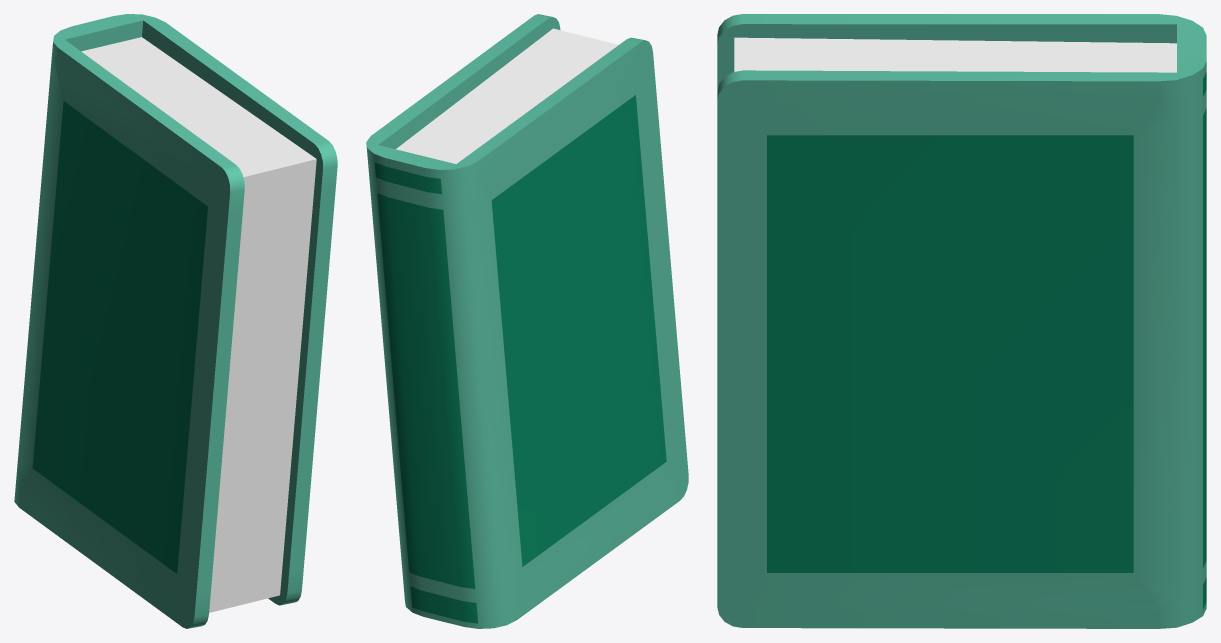
File: book_1.fbx
3 views of the same model, side by side, from view 1: azimuth 30°, elevation 25°; view 2: azimuth 150°, elevation 25°; view 3: azimuth 270°, elevation 25° (orthographic). The views are drawn at different scales.
Visible parts, largest first — view 1: book_1; view 2: book_1; view 3: book_1.
Part boxes in pixels (x1=…): book_1: x1=14, y1=14, x2=337, y2=628; book_1: x1=366, y1=14, x2=688, y2=628; book_1: x1=717, y1=14, x2=1206, y2=628.
Size of the model in its own units: 0.1118 by 0.3307 by 0.2557.
